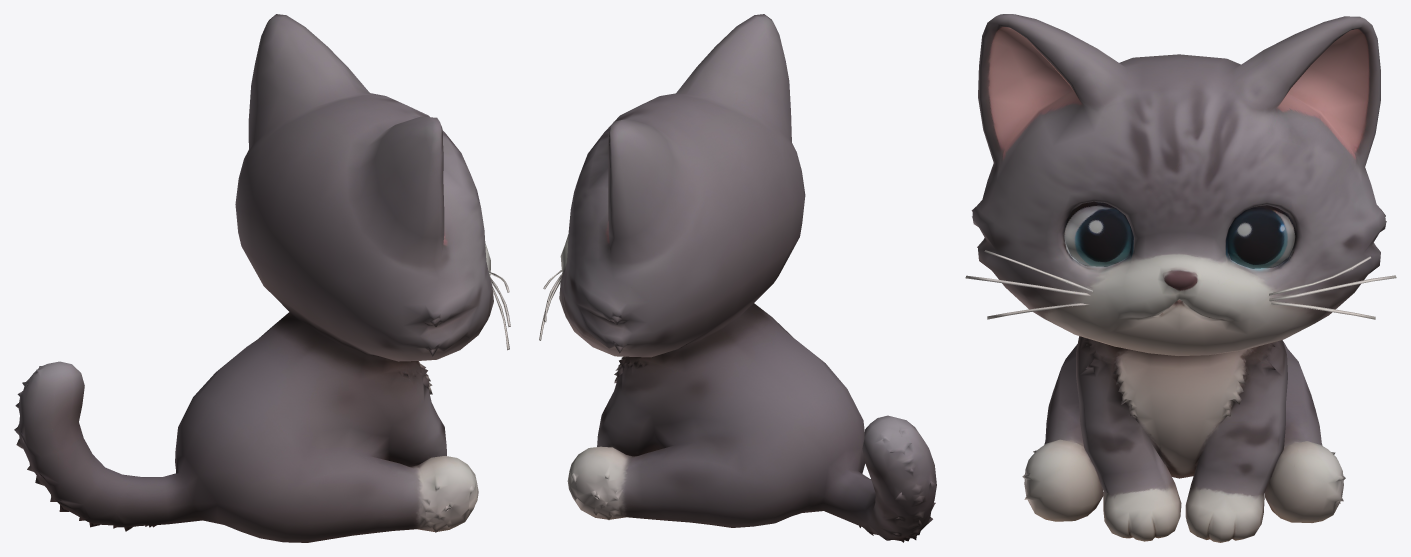
The model's file is cat-chibi.glb.
The picture shows the model from 3 angles, left to right: view 1: azimuth 30°, elevation 25°; view 2: azimuth 150°, elevation 25°; view 3: azimuth 270°, elevation 25°; orthographic projection. The views are drawn at different scales.
Parts seen in each view (by area): view 1: tripo_node_548e77d1-ac8a-4e9e-a058-dd80cc4faede; view 2: tripo_node_548e77d1-ac8a-4e9e-a058-dd80cc4faede; view 3: tripo_node_548e77d1-ac8a-4e9e-a058-dd80cc4faede.
Boxes of the visible parts, box(x1,y1,x2,y2) form: tripo_node_548e77d1-ac8a-4e9e-a058-dd80cc4faede: box(14, 14, 510, 542); tripo_node_548e77d1-ac8a-4e9e-a058-dd80cc4faede: box(539, 14, 936, 542); tripo_node_548e77d1-ac8a-4e9e-a058-dd80cc4faede: box(965, 14, 1396, 542).
Size of the model in its own units: 0.998 by 0.998 by 0.7988.
1 material, 1 textured.
